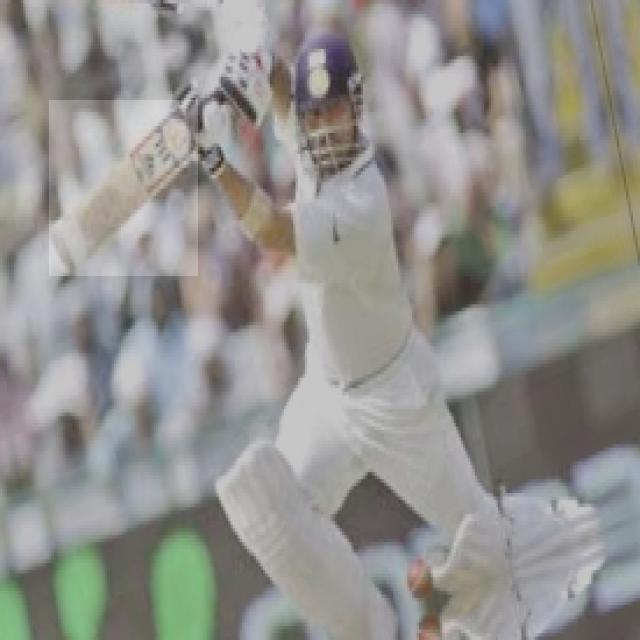bat: (47, 96, 196, 277)
toe: (52, 229, 81, 274)
